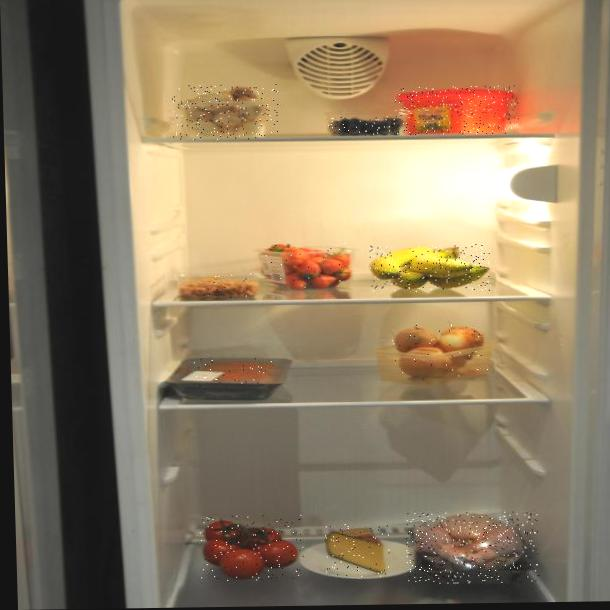banana: (370, 244, 491, 293)
beef: (190, 358, 273, 387)
blueberries: (327, 116, 414, 136)
butter: (395, 86, 519, 136)
cheese: (325, 523, 390, 577)
chicken: (406, 511, 540, 584)
mushrooms: (172, 84, 279, 140)
onion: (389, 324, 488, 380)
shrimp: (178, 273, 259, 302)
strawberries: (257, 243, 355, 289)
tomato: (199, 515, 304, 582)
